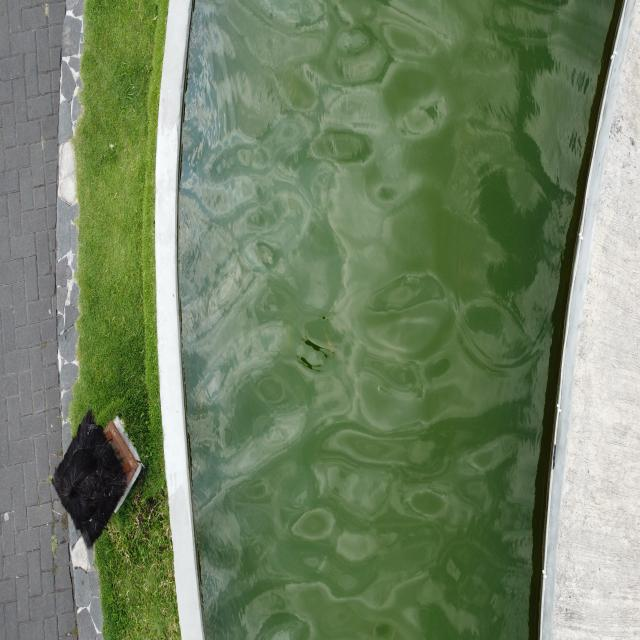Ponds: (155, 1, 640, 639)
